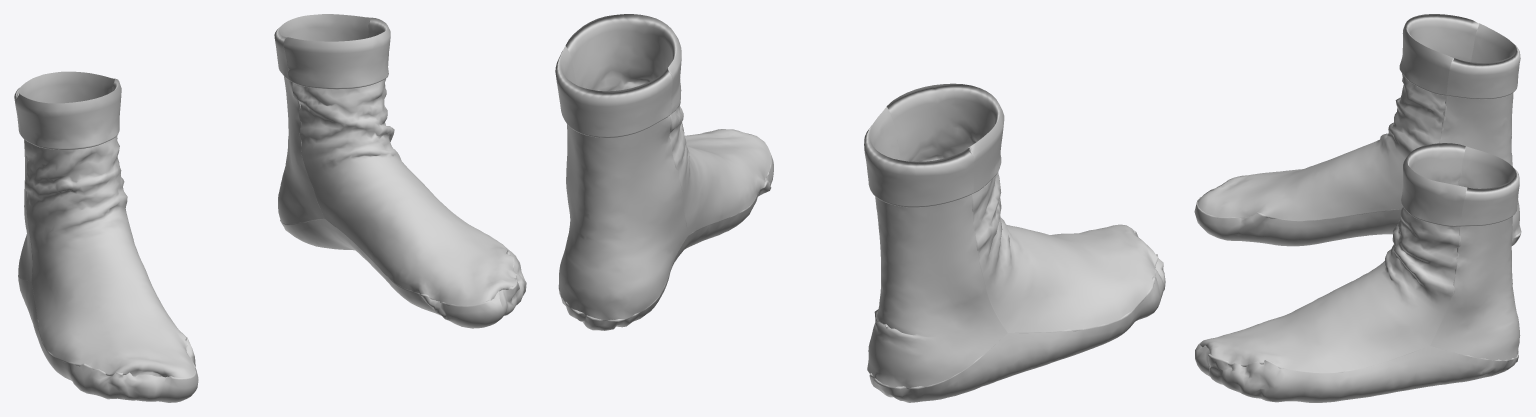
The model's file is SOCKSv1.fbx.
The picture shows the model from 3 angles, left to right: view 1: azimuth 30°, elevation 25°; view 2: azimuth 150°, elevation 25°; view 3: azimuth 270°, elevation 25°; orthographic projection. The views are drawn at different scales.
Parts seen in each view (by area): view 1: Pattern2D_40980, Pattern2D_40979, Pattern2D_9069, Pattern2D_67358, Pattern2D_67359, Pattern2D_9070; view 2: Pattern2D_9069, Pattern2D_40980, Pattern2D_9070, Pattern2D_40979, Pattern2D_67359, Pattern2D_67358; view 3: Pattern2D_40979, Pattern2D_40980, Pattern2D_9069, Pattern2D_67358, Pattern2D_9070, Pattern2D_67359.
Boxes of the visible parts, x1,y1,x2,y2 form: Pattern2D_40980: (15, 79, 195, 377); Pattern2D_40979: (283, 17, 516, 306); Pattern2D_9069: (274, 14, 370, 224); Pattern2D_67358: (280, 219, 526, 328); Pattern2D_67359: (18, 275, 198, 402); Pattern2D_9070: (14, 71, 115, 281); Pattern2D_9069: (555, 45, 688, 321); Pattern2D_40980: (886, 83, 1158, 333); Pattern2D_9070: (864, 106, 1007, 388); Pattern2D_40979: (565, 14, 771, 235); Pattern2D_67359: (867, 230, 1165, 402); Pattern2D_67358: (558, 132, 773, 330); Pattern2D_40979: (1200, 143, 1467, 372); Pattern2D_40980: (1197, 14, 1479, 220); Pattern2D_9069: (1430, 146, 1520, 361); Pattern2D_67358: (1195, 342, 1518, 402); Pattern2D_9070: (1439, 23, 1520, 239); Pattern2D_67359: (1194, 197, 1521, 246).
Size of the model in its own units: 371 by 185 by 247.
